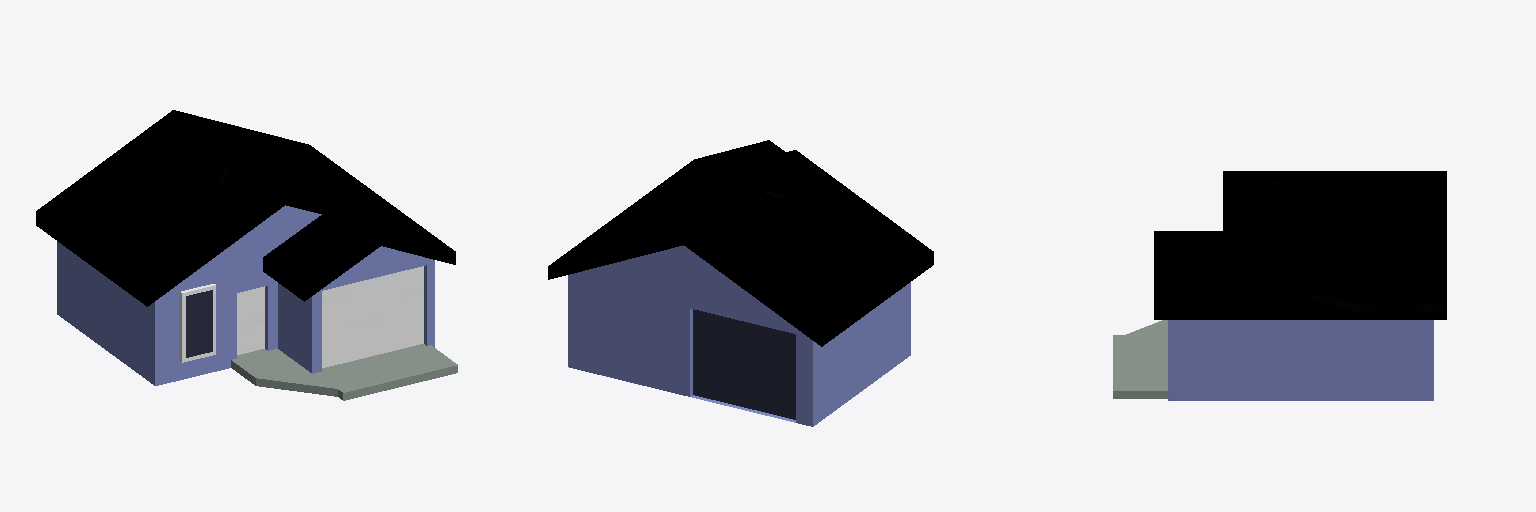
3 renders of one model, left to right at view 1: azimuth 30°, elevation 25°; view 2: azimuth 150°, elevation 25°; view 3: azimuth 270°, elevation 25°, orthographic.
Parts seen in each view (by area): view 1: House.000; view 2: House.000; view 3: House.000.
Boxes of the visible parts, x1,y1,x2,y2 form: House.000: [36, 110, 457, 400]; House.000: [548, 140, 933, 426]; House.000: [1113, 171, 1446, 400].
Size of the model in its own units: 1.42 by 0.844 by 1.5.
Materials: 1 (1 with a texture image).